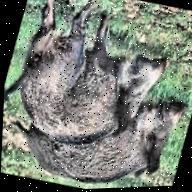boar: (1, 0, 186, 171)
